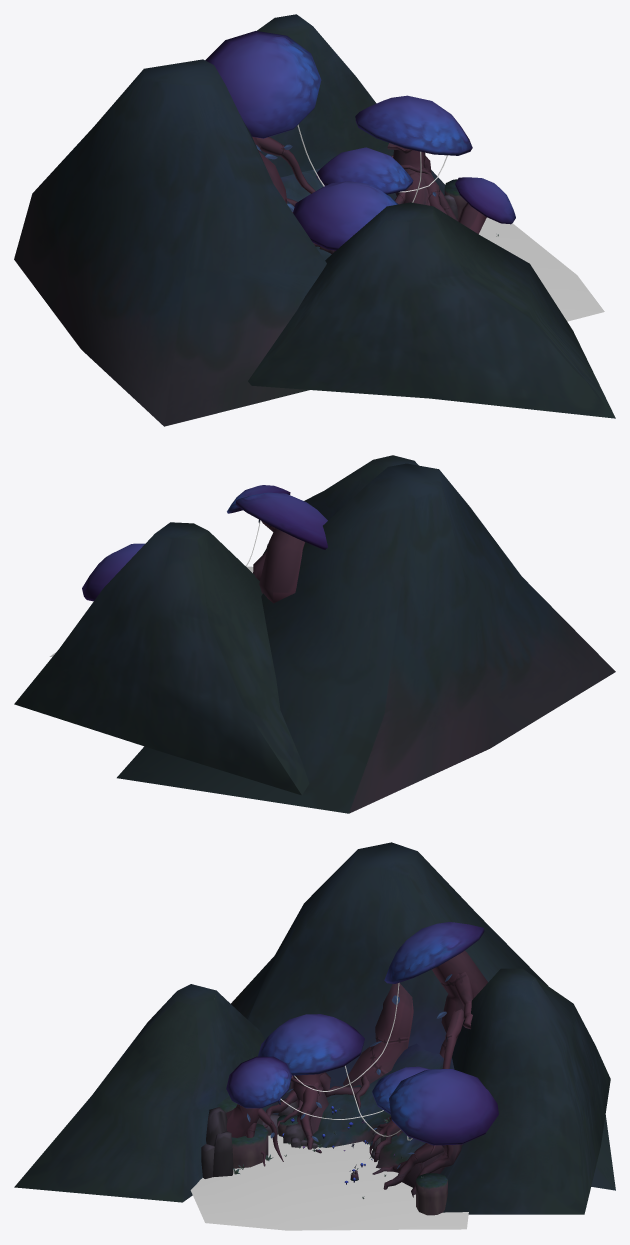
The model's file is 동굴_Cave_.fbx.
3 renders of one model, top to bottom at view 1: azimuth 30°, elevation 25°; view 2: azimuth 150°, elevation 25°; view 3: azimuth 270°, elevation 25°, orthographic. The views are drawn at different scales.
Visible parts, largest first — view 1: Cave, Cave_Ground; view 2: Cave; view 3: Cave, Cave_Ground.
Boxes of the visible parts, <box> form: Cave: <box>14,14,615,426</box>; Cave_Ground: <box>479,217,604,321</box>; Cave: <box>14,455,615,813</box>; Cave: <box>14,842,615,1215</box>; Cave_Ground: <box>190,1134,468,1230</box>.
Size of the model in its own units: 186 by 107 by 231.
